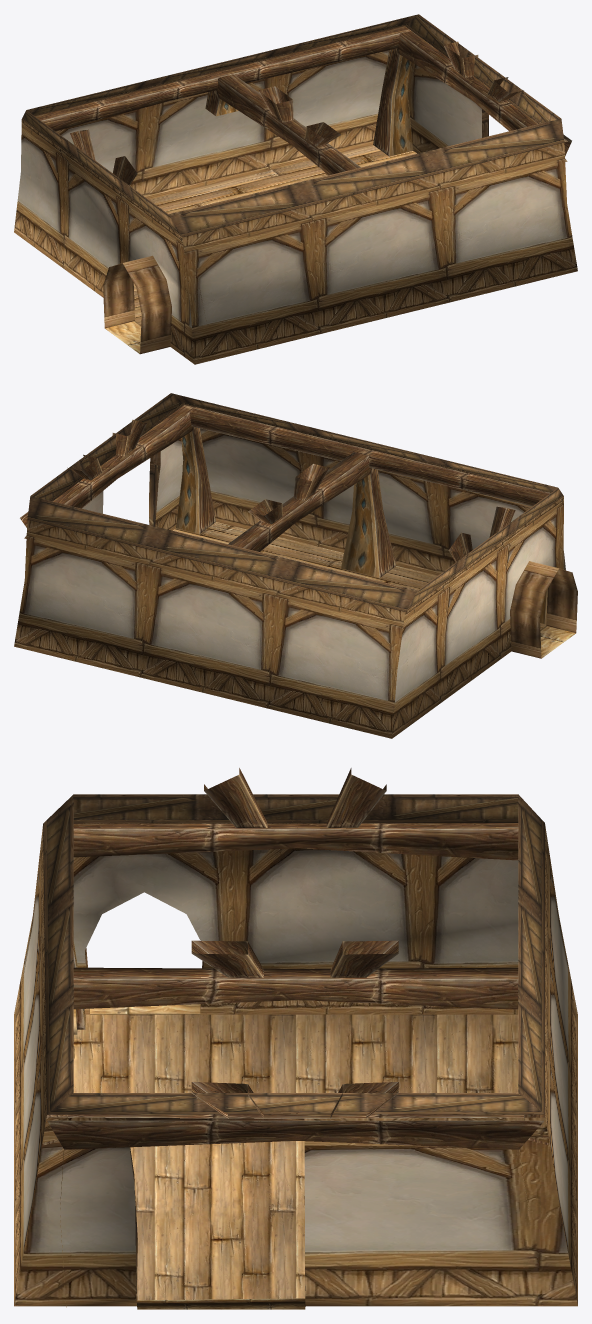
File: stormwind_211.fbx
The picture shows the model from 3 angles, top to bottom: view 1: azimuth 30°, elevation 25°; view 2: azimuth 150°, elevation 25°; view 3: azimuth 270°, elevation 25°; orthographic projection. The views are drawn at different scales.
Visible parts, largest first — view 1: stormwind_211_48, stormwind_211_53, stormwind_211_56, stormwind_211_49, stormwind_211_51; view 2: stormwind_211_48, stormwind_211_53, stormwind_211_56, stormwind_211_49, stormwind_211_51; view 3: stormwind_211_48, stormwind_211_51, stormwind_211_53, stormwind_211_56.
Boxes of the visible parts, x1=… form: stormwind_211_48: x1=14, y1=25, x2=577, y2=364; stormwind_211_53: x1=30, y1=26, x2=571, y2=353; stormwind_211_56: x1=22, y1=14, x2=564, y2=237; stormwind_211_49: x1=103, y1=255, x2=171, y2=354; stormwind_211_51: x1=133, y1=145, x2=416, y2=324; stormwind_211_48: x1=14, y1=404, x2=565, y2=738; stormwind_211_53: x1=20, y1=404, x2=575, y2=665; stormwind_211_56: x1=27, y1=393, x2=563, y2=611; stormwind_211_49: x1=150, y1=451, x2=577, y2=658; stormwind_211_51: x1=173, y1=522, x2=546, y2=629; stormwind_211_48: x1=14, y1=823, x2=577, y2=1306; stormwind_211_51: x1=73, y1=1014, x2=518, y2=1300; stormwind_211_53: x1=17, y1=768, x2=548, y2=1309; stormwind_211_56: x1=43, y1=794, x2=544, y2=1306.
Size of the model in its own units: 20.03 by 7.09 by 14.96.
